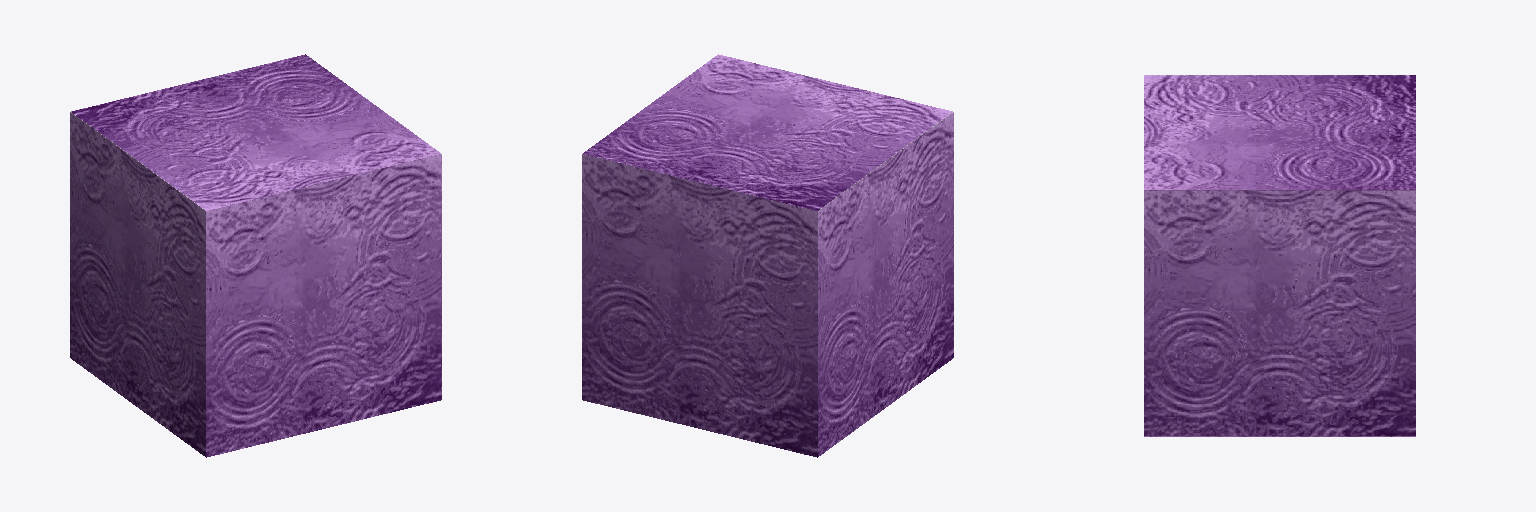
3 views of the same model, side by side, from view 1: azimuth 30°, elevation 25°; view 2: azimuth 150°, elevation 25°; view 3: azimuth 270°, elevation 25° (orthographic).
Parts seen in each view (by area): view 1: 立方体; view 2: 立方体; view 3: 立方体.
Boxes of the visible parts, box(x1,y1,x2,y2) form: 立方体: box(70, 54, 441, 457); 立方体: box(582, 54, 953, 457); 立方体: box(1144, 75, 1415, 436).
Size of the model in its own units: 2 by 2 by 2.
1 materials, 1 textured.